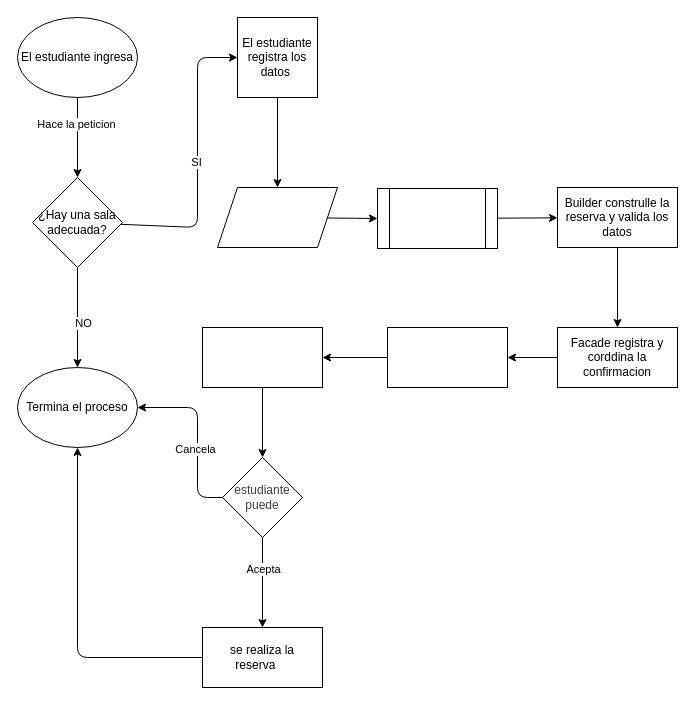
Image size: 695x705. Some labels were removed from this diagram. Here are the shapes that lost their labels. From the top down, the box of each, then its label:
(216, 186, 338, 248): el sistema consulta las salas disponibles
(376, 188, 498, 248): una estrategia Selecciona la sala
(202, 326, 322, 388): Observer comunica el cambio a los subcritores
(386, 326, 508, 388): State valida el cambio del estado
